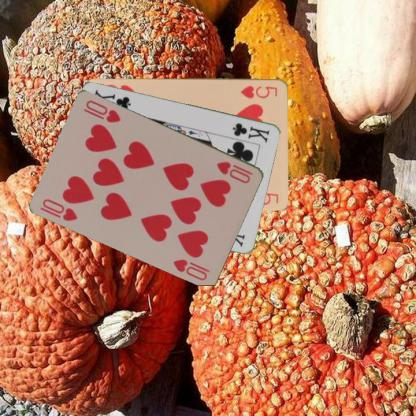10h: (214, 158, 254, 185), (40, 196, 79, 222)
5h: (238, 82, 279, 100)
Kc: (230, 120, 271, 144)
